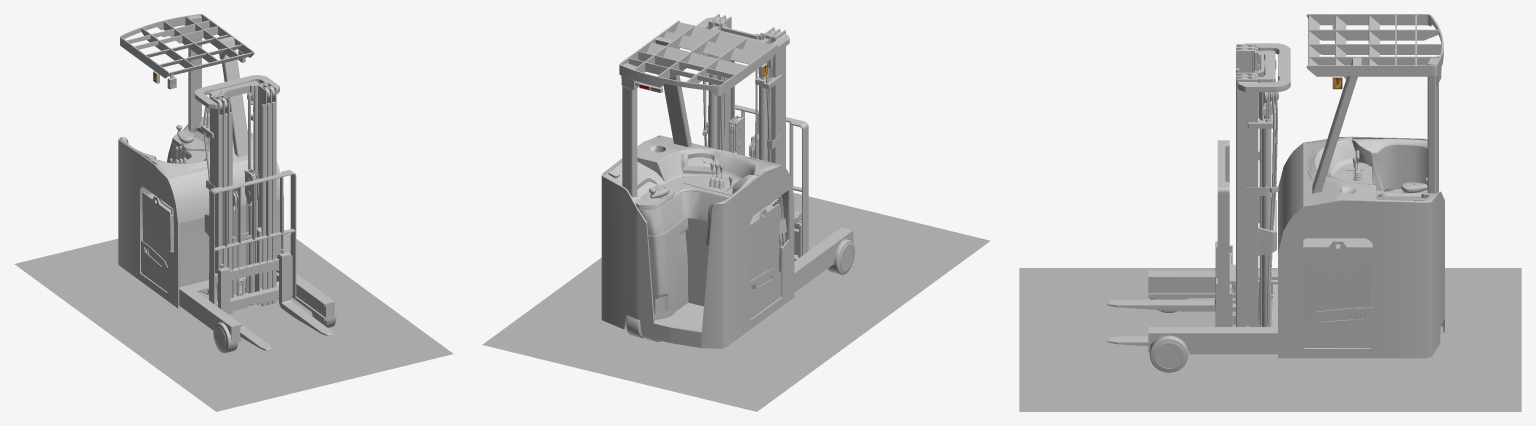
File: Reachlift.fbx
The picture shows the model from 3 angles, left to right: view 1: azimuth 30°, elevation 25°; view 2: azimuth 150°, elevation 25°; view 3: azimuth 270°, elevation 25°; orthographic projection. The views are drawn at different scales.
Parts seen in each view (by area): view 1: Shadow, Body, Must4, Must3, Mast-1, Mast-2, Hose_3_4, Hose_2_1, Tire_F; view 2: Body, Shadow, Mast-1, Must4, Must3, Hose_2_1, Mast-2, Tire_F; view 3: Body, Shadow, Mast-1, Must4, Hose_2_1, Tire_F, Mast-2, Must3.
Boxes of the visible parts, x1,y1,x2,y2 form: Shadow: (14, 230, 453, 411); Body: (118, 14, 334, 342); Must4: (209, 170, 332, 350); Must3: (218, 83, 266, 314); Mast-1: (194, 75, 279, 303); Mast-2: (206, 81, 271, 304); Hose_3_4: (233, 171, 256, 295); Hose_2_1: (203, 92, 254, 294); Tire_F: (213, 309, 336, 353); Body: (601, 20, 853, 348); Shadow: (482, 192, 990, 411); Mast-1: (696, 14, 789, 167); Must4: (708, 104, 850, 260); Must3: (719, 16, 774, 159); Hose_2_1: (702, 53, 770, 162); Mast-2: (707, 15, 780, 161); Tire_F: (827, 239, 854, 274); Body: (1148, 14, 1444, 358); Shadow: (1019, 268, 1521, 411); Mast-1: (1236, 43, 1290, 326); Must4: (1107, 140, 1235, 346); Hose_2_1: (1258, 59, 1277, 326); Tire_F: (1149, 298, 1188, 372); Mast-2: (1236, 45, 1278, 326); Must3: (1236, 48, 1263, 326).
Size of the model in its own units: 260 by 248 by 382.
